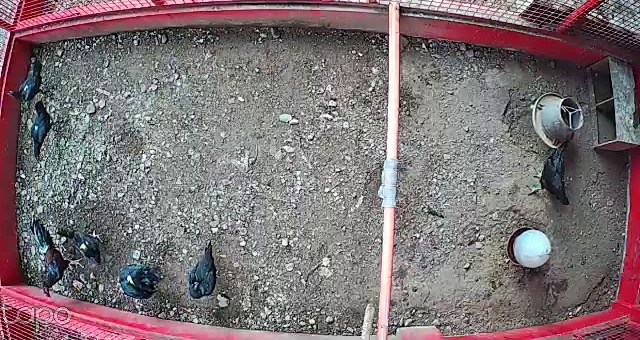Chicken: (526, 138, 575, 210), (185, 245, 226, 302), (55, 224, 106, 266), (6, 59, 50, 106), (119, 259, 165, 300), (31, 99, 58, 166)
Rooster: (31, 218, 87, 301)
Saddle_Color_Blue: (36, 126, 40, 131)
Saddle_Color_Yellow: (79, 241, 90, 254)
